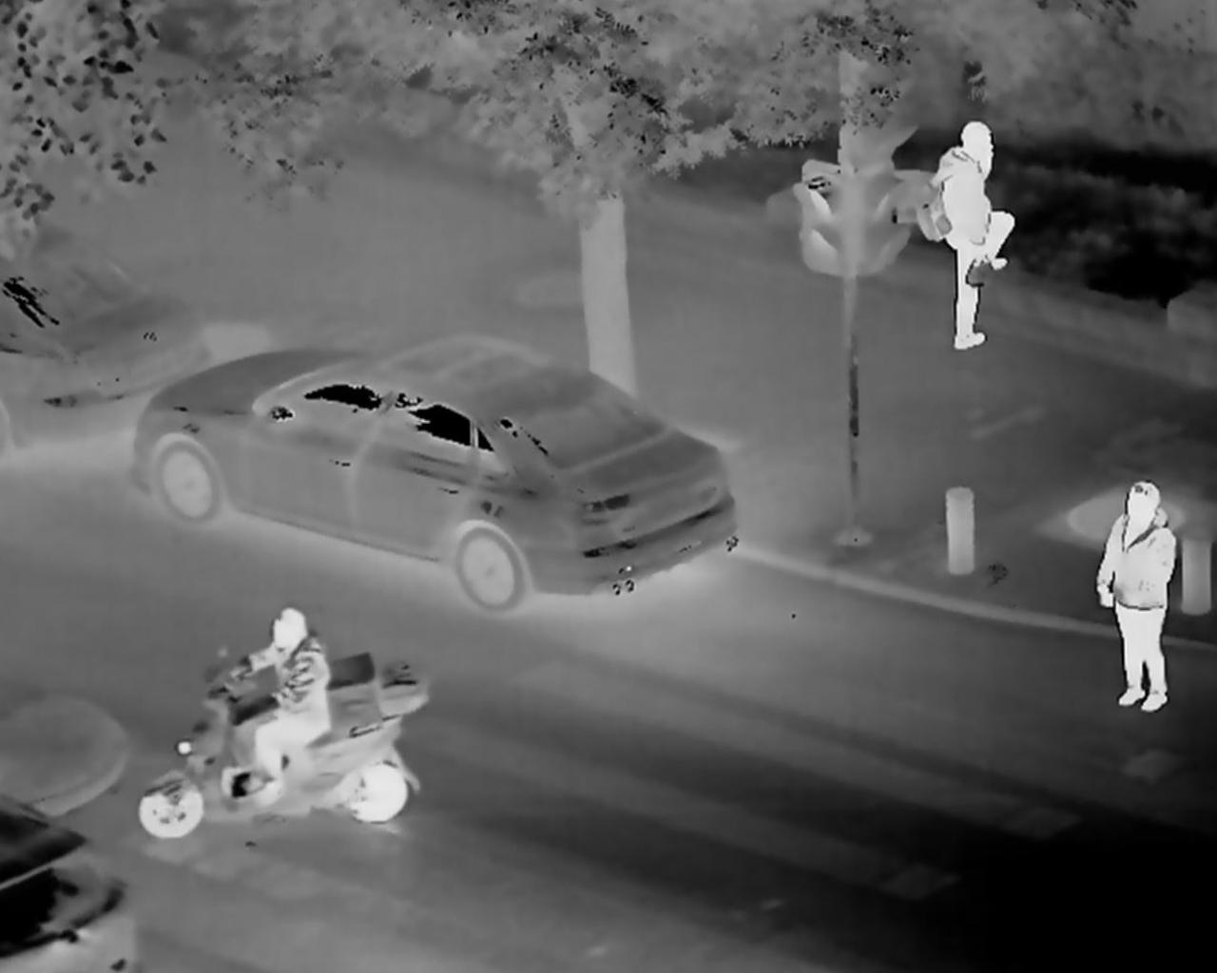person: (214, 608, 342, 799), (1092, 475, 1182, 715), (932, 122, 1014, 354)
